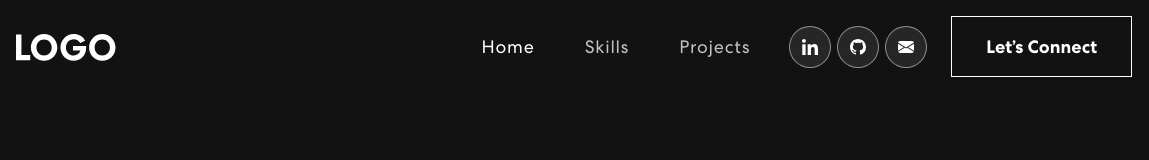
clicking a nav link marks it active and the previously active link inactive
The width and height of the screenshot is (1149, 160).
Click the link "Skills" at [607, 46], box x1=585 y1=35 x2=629 y2=58
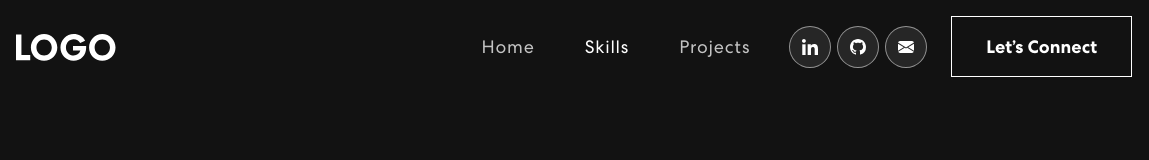
Check: the link "Skills" has class "active", box x1=585 y1=35 x2=629 y2=58
Check: the link "Home" does not have class "active", box x1=482 y1=35 x2=535 y2=58
